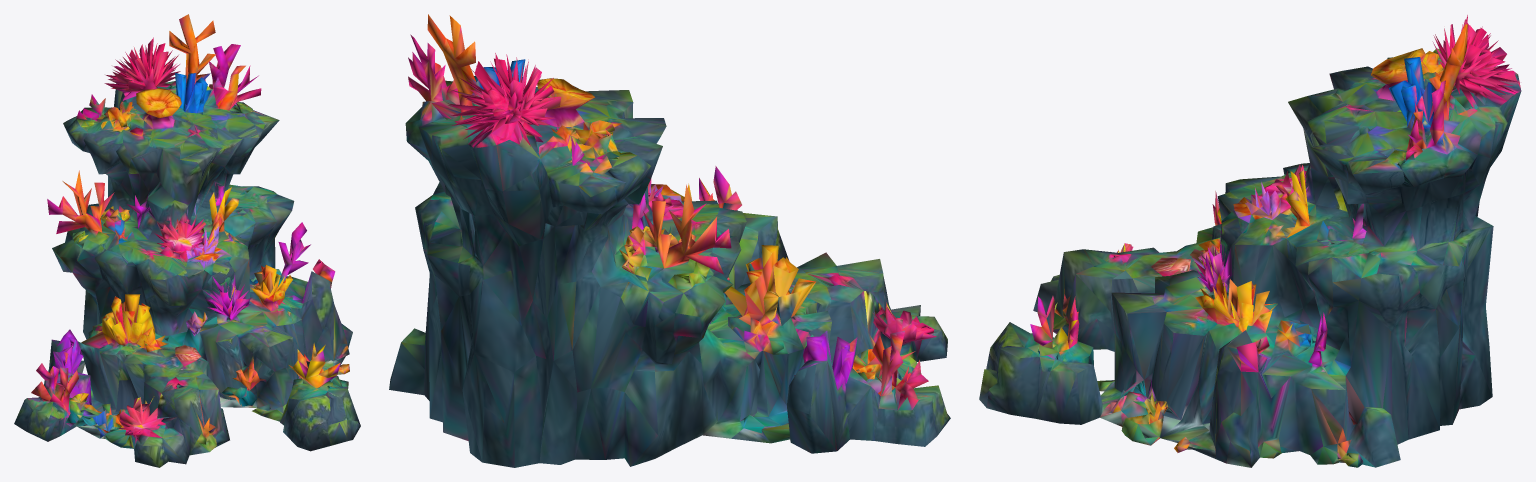
File: coral_reef.glb
3 renders of one model, left to right at view 1: azimuth 30°, elevation 25°; view 2: azimuth 150°, elevation 25°; view 3: azimuth 270°, elevation 25°, orthographic. The views are drawn at different scales.
Visible parts, largest first — view 1: Model; view 2: Model; view 3: Model.
Part boxes in pixels (<box>): Model: <box>14,14,360,467</box>; Model: <box>389,14,950,467</box>; Model: <box>979,15,1521,467</box>.
Bounding box in the file's own units: 16.89 × 14.46 × 18.
1 material, 1 textured.
